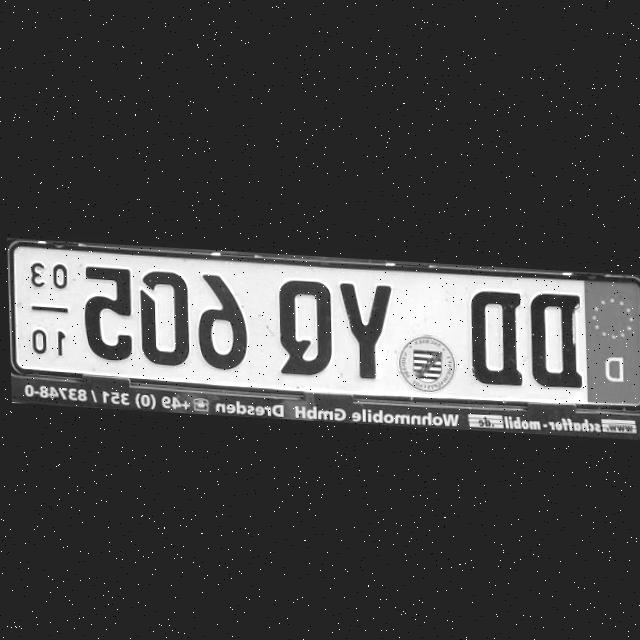license-plates: (10, 244, 640, 410)
